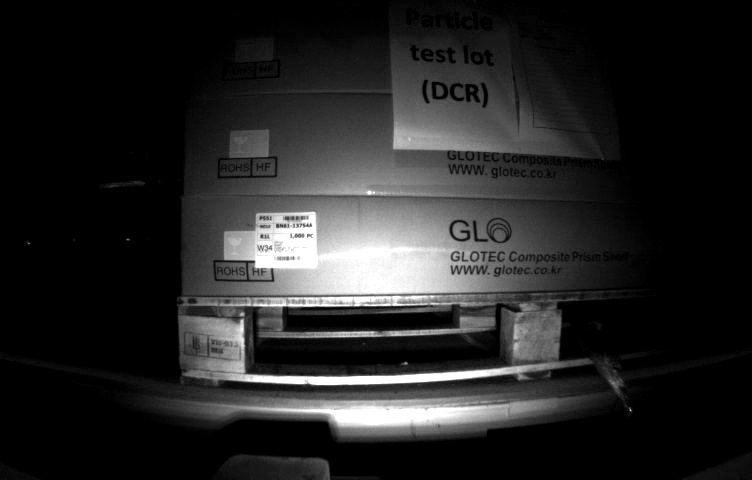True Barcode: (254, 211, 320, 271)
